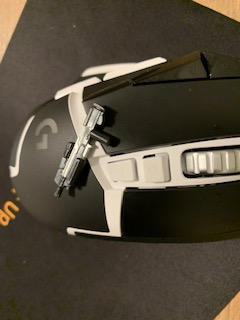rifle: (50, 102, 112, 199)
